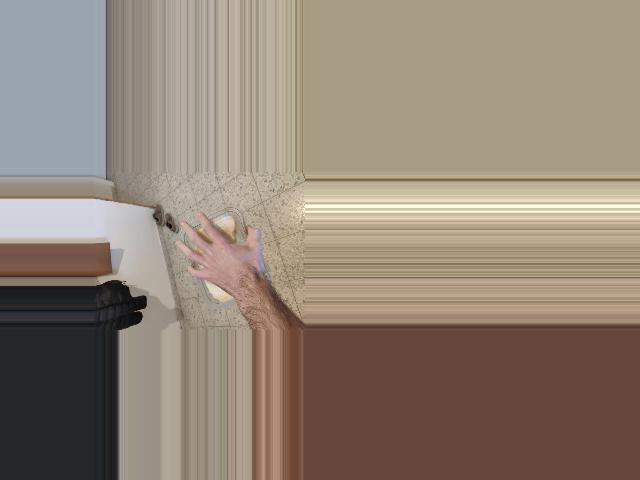cheese: (178, 210, 270, 304)
